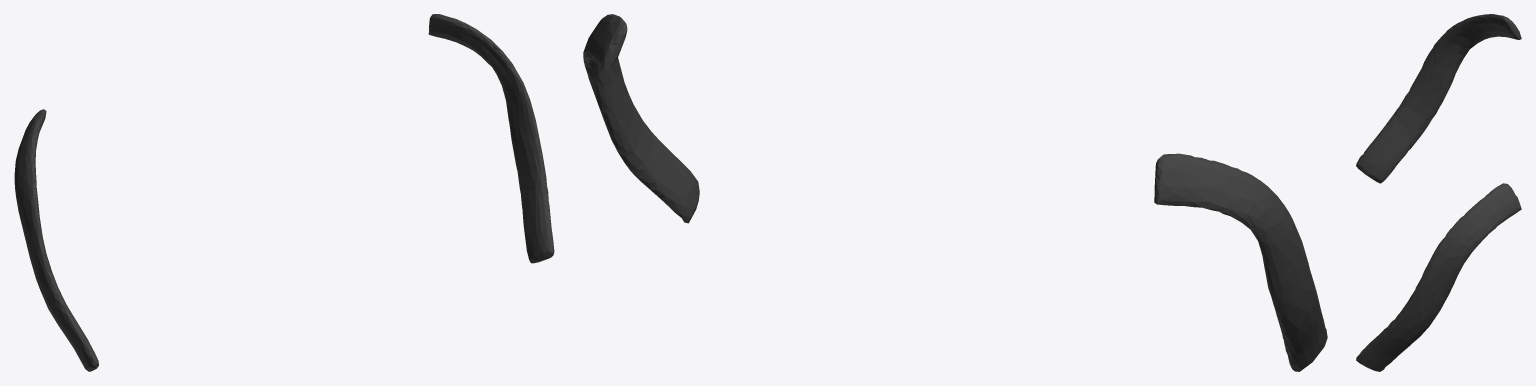
The model's file is m_zygomaticoauricularis.glb.
3 views of the same model, side by side, from view 1: azimuth 30°, elevation 25°; view 2: azimuth 150°, elevation 25°; view 3: azimuth 270°, elevation 25° (orthographic). The views are drawn at different scales.
Visible parts, largest first — view 1: m_zygomaticoauricularis; view 2: m_zygomaticoauricularis; view 3: m_zygomaticoauricularis.
Boxes of the visible parts, x1,y1,x2,y2 form: m_zygomaticoauricularis: (14, 14, 554, 371); m_zygomaticoauricularis: (583, 14, 1327, 371); m_zygomaticoauricularis: (1356, 14, 1521, 371).
Bounding box in the file's own units: 0.00268 × 0.00104 × 0.000881.
Materials: 1 (1 with a texture image).
